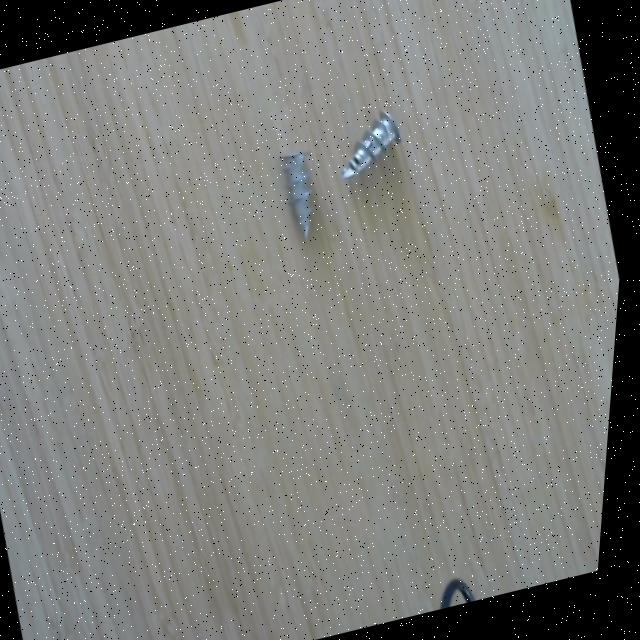Short screw: (328, 100, 422, 190), (269, 130, 335, 244)
